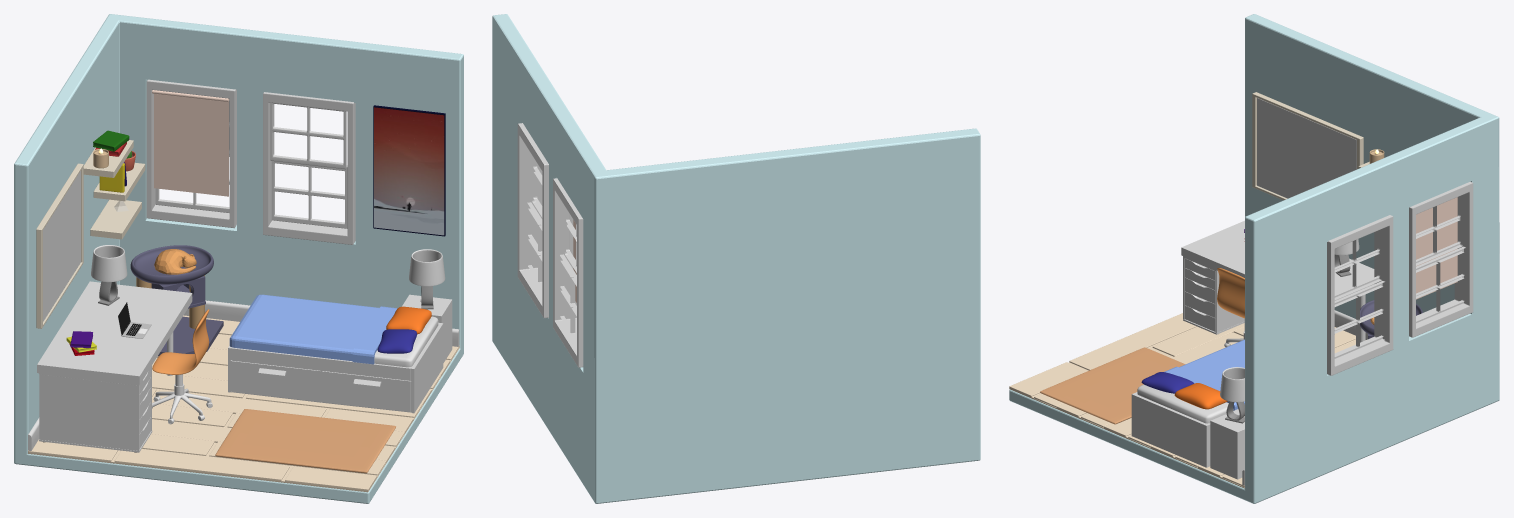
Rendered from room_joined2.glb.
3 renders of one model, left to right at view 1: azimuth 30°, elevation 25°; view 2: azimuth 150°, elevation 25°; view 3: azimuth 270°, elevation 25°, orthographic. The views are drawn at different scales.
Visible parts, largest first — view 1: walls, Windows, bed frame, Whiteboard, Table, floor stuff, desk stuff, shelf items, Pillows; view 2: walls, Windows; view 3: walls, Windows, floor stuff, Whiteboard, bed frame, Table, desk stuff, Pillows.
Boxes of the visible parts, box(x1,y1,x2,y2) form: walls: box(14, 14, 463, 503); Windows: box(146, 79, 355, 244); bed frame: box(228, 294, 443, 413); Whiteboard: box(36, 105, 445, 328); Table: box(37, 281, 192, 452); floor stuff: box(130, 245, 452, 473); desk stuff: box(66, 245, 445, 355); shelf items: box(93, 130, 135, 211); Pillows: box(377, 306, 431, 353); walls: box(492, 14, 980, 503); Windows: box(517, 123, 583, 367); walls: box(1009, 14, 1499, 503); Windows: box(1327, 181, 1473, 375); floor stuff: box(1040, 268, 1422, 479); Whiteboard: box(1252, 92, 1369, 200); bed frame: box(1131, 339, 1244, 467); Table: box(1181, 220, 1374, 342); desk stuff: box(1220, 229, 1359, 423); Pillows: box(1141, 372, 1227, 409).
Bounding box in the file's own units: 5.67 × 3.63 × 5.67.
37 materials, 1 textured.
